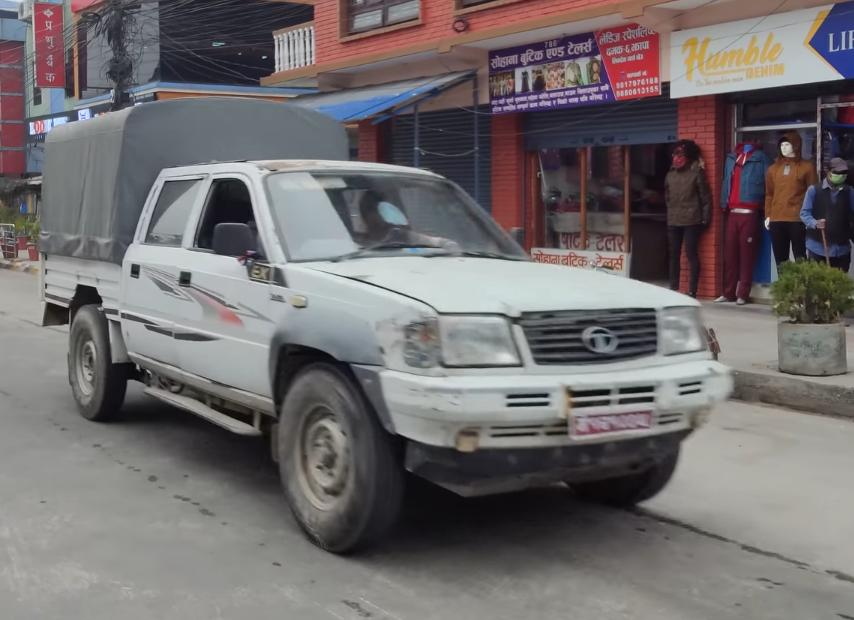transport_vehicle: (27, 90, 725, 561)
